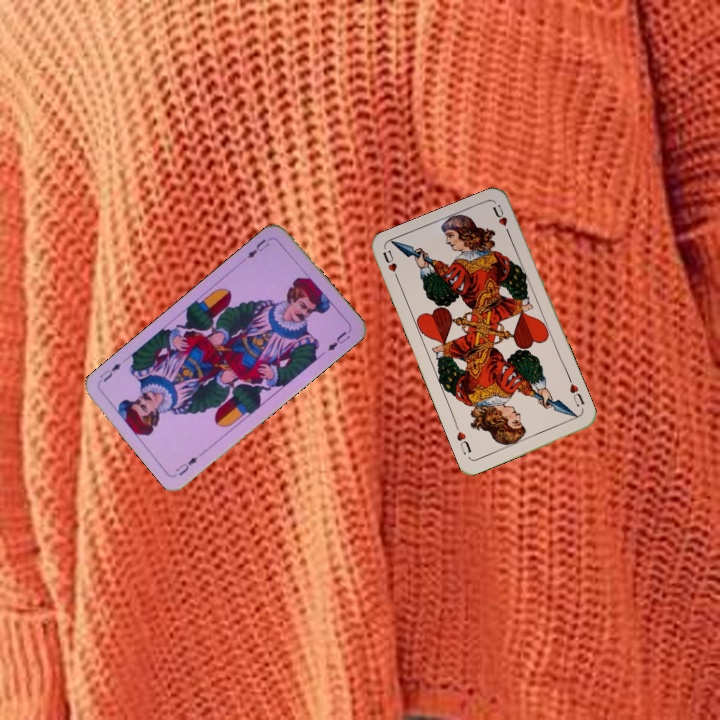EU: (172, 448, 207, 478), (239, 235, 272, 264)
HU: (379, 247, 402, 285), (565, 380, 587, 409)
